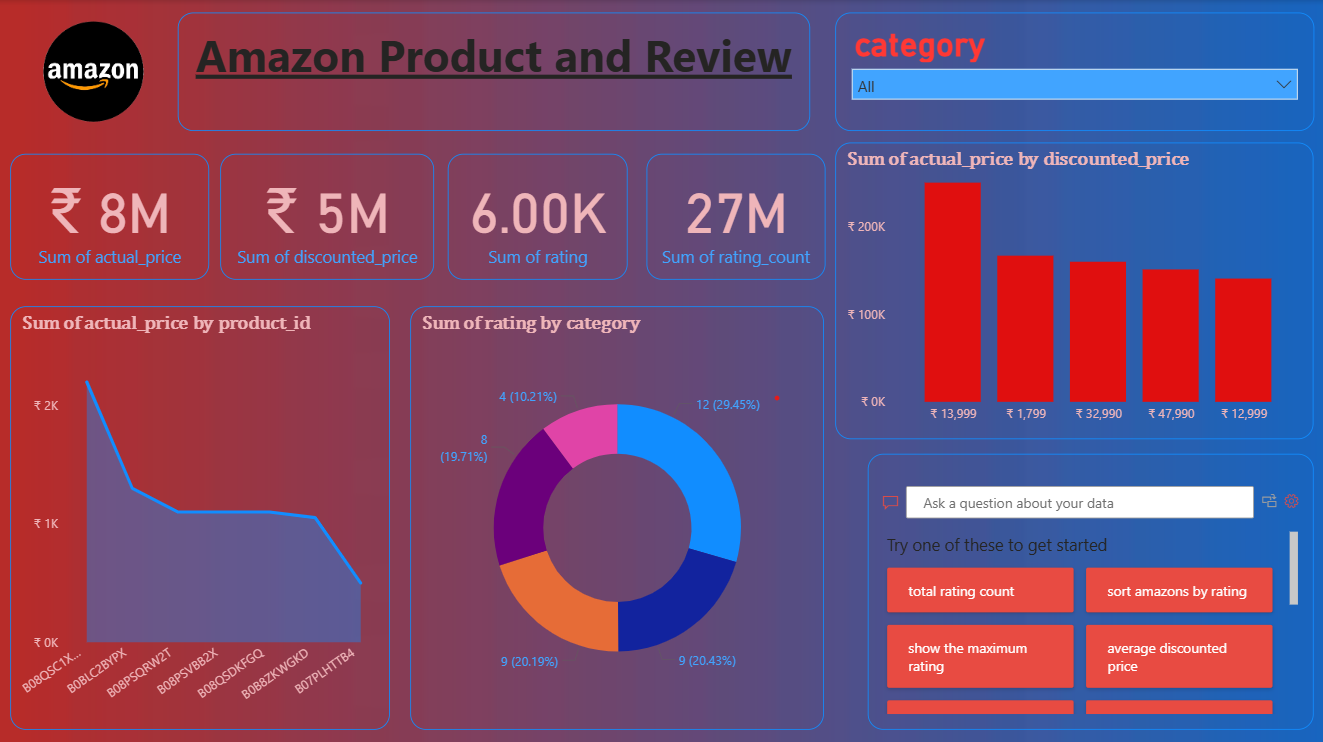

What the dashboard file says about the page in this screenshot:
{"tool":"powerbi","page":{"name":"Page 1","canvas":[1280,720],"ordinal":0},"visuals":[{"type":"columnChart","fields":{"Category":["amazon.discounted_price"],"Y":["Sum(amazon.actual_price)"]},"box":[807.3,137.4,461.7,286.1],"z":0},{"type":"textbox","box":[172.5,12.1,610.5,114.6],"z":1000},{"type":"card","fields":{"Values":["Sum(amazon.actual_price)"]},"box":[10.9,148.4,191.8,121.9],"z":2000},{"type":"card","fields":{"Values":["Sum(amazon.discounted_price)"]},"box":[213.5,148.4,206.3,121.9],"z":3000},{"type":"card","fields":{"Values":["Sum(amazon.rating)"]},"box":[433.1,148.4,173.7,121.9],"z":4000},{"type":"card","fields":{"Values":["Sum(amazon.rating_count)"]},"box":[624.9,148.4,172.5,121.9],"z":5000},{"type":"donutChart","fields":{"Category":["amazon.category"],"Y":["Sum(amazon.rating)"]},"box":[396.9,295.6,399.3,409],"z":6000},{"type":"qnaVisual","box":[838.5,437.9,430.7,266.6],"z":8000},{"type":"stackedAreaChart","fields":{"Category":["amazon.product_id"],"Y":["Sum(amazon.actual_price)"]},"box":[10.9,295.6,366.8,409],"z":9000},{"type":"image","box":[0,6,183.4,126.7],"z":10000},{"type":"slicer","fields":{"Values":["amazon.category"]},"box":[807.1,12.1,462.1,114.6],"z":10001}]}

Visuals, with their boxes in screenshot pixels (x1, y1, x2, y2), scaled from the page's 1280x720 canvas onto the 1323x742 screenshot:
columnChart - amazon.discounted_price x Sum(amazon.actual_price): 834/142/1312/436
textbox: 178/12/809/131
card - Sum(amazon.actual_price): 11/153/210/279
card - Sum(amazon.discounted_price): 221/153/434/279
card - Sum(amazon.rating): 448/153/627/279
card - Sum(amazon.rating_count): 646/153/824/279
donutChart - amazon.category x Sum(amazon.rating): 410/305/823/726
qnaVisual: 867/451/1312/726
stackedAreaChart - amazon.product_id x Sum(amazon.actual_price): 11/305/390/726
image: 0/6/190/137
slicer - amazon.category: 834/12/1312/131
